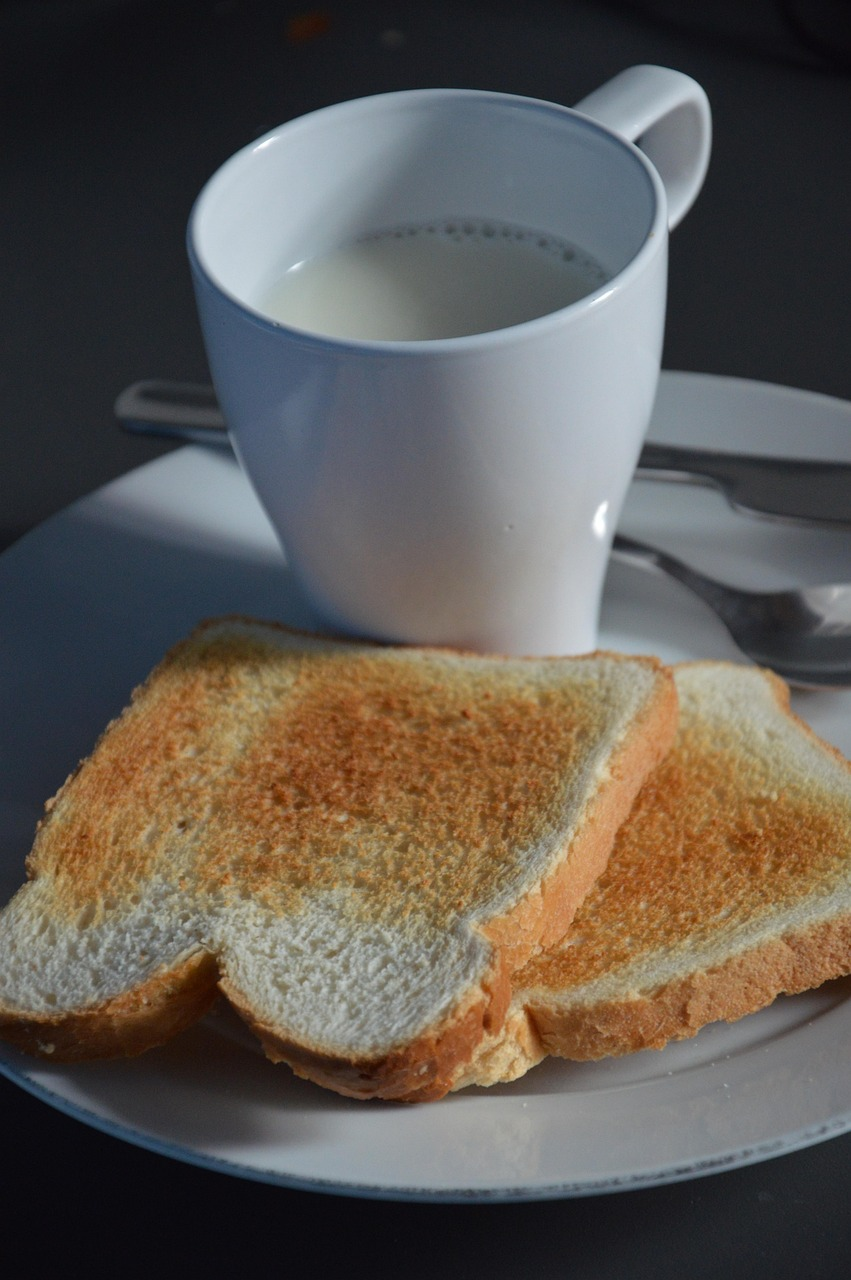mug: (147, 49, 775, 670)
